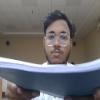notebook: (0, 54, 99, 98)
